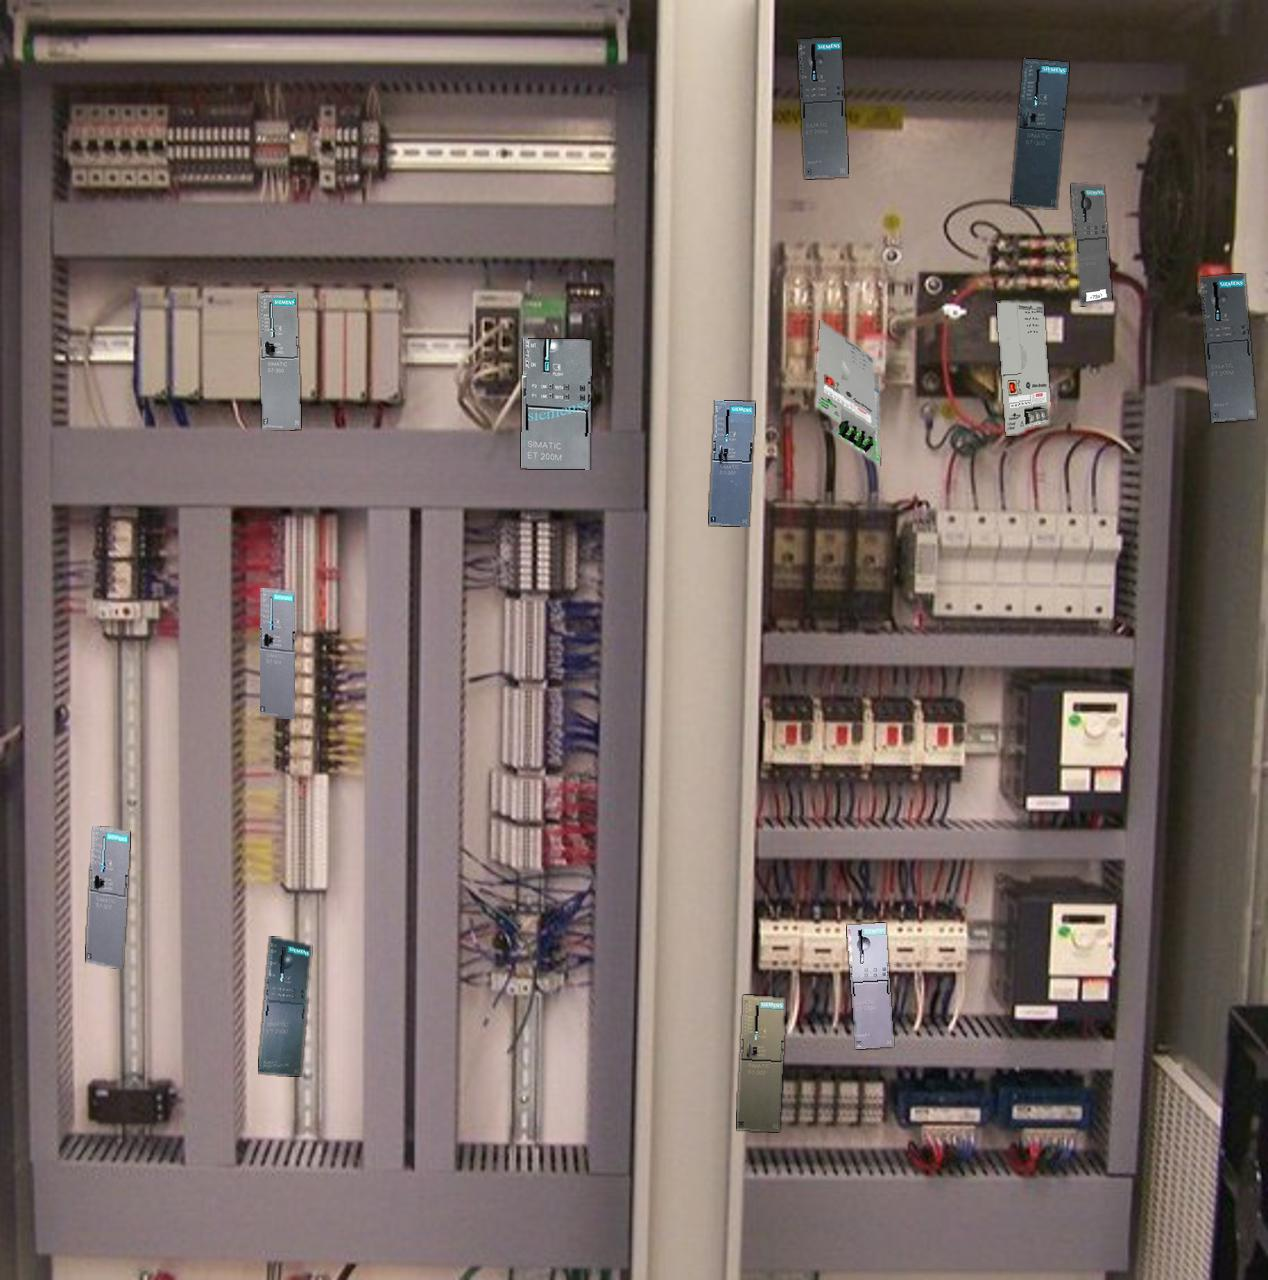AllenBradley: (815, 321, 879, 465), (996, 301, 1050, 436)
Siemens: (1011, 58, 1068, 208), (737, 995, 784, 1131), (86, 826, 129, 968), (709, 400, 754, 526), (259, 292, 300, 429), (260, 588, 294, 718)
